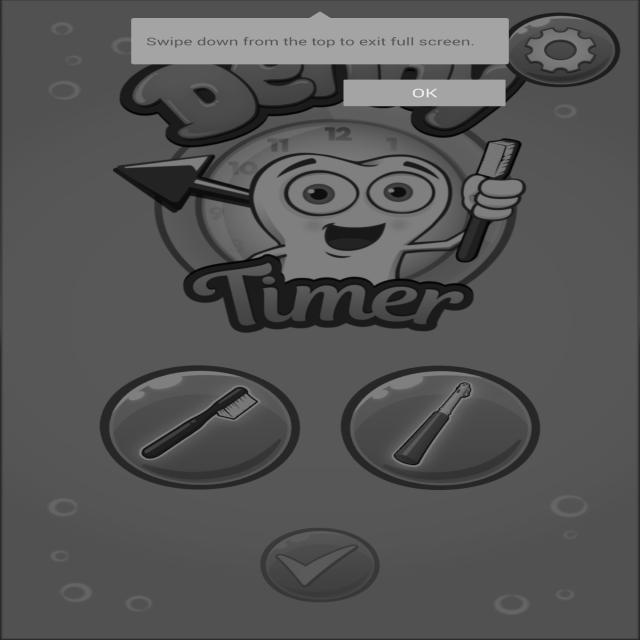Button: (339, 77, 510, 108)
ImageView: (144, 126, 521, 331), (88, 370, 297, 486), (338, 371, 544, 488), (246, 524, 390, 603)
TextView: (142, 28, 484, 50)
